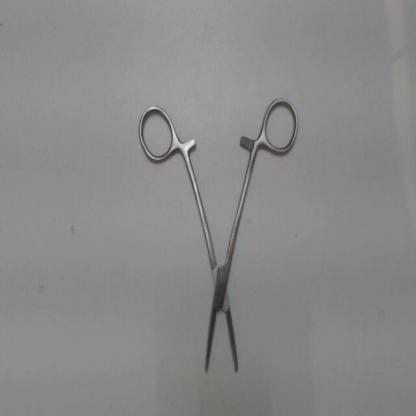Mayo Needle Holder: (135, 90, 304, 382)
